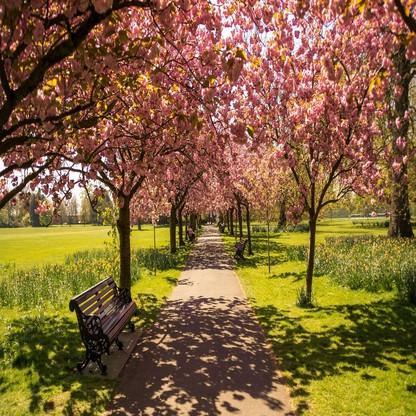obstacle: (61, 266, 156, 377), (228, 230, 251, 269)
